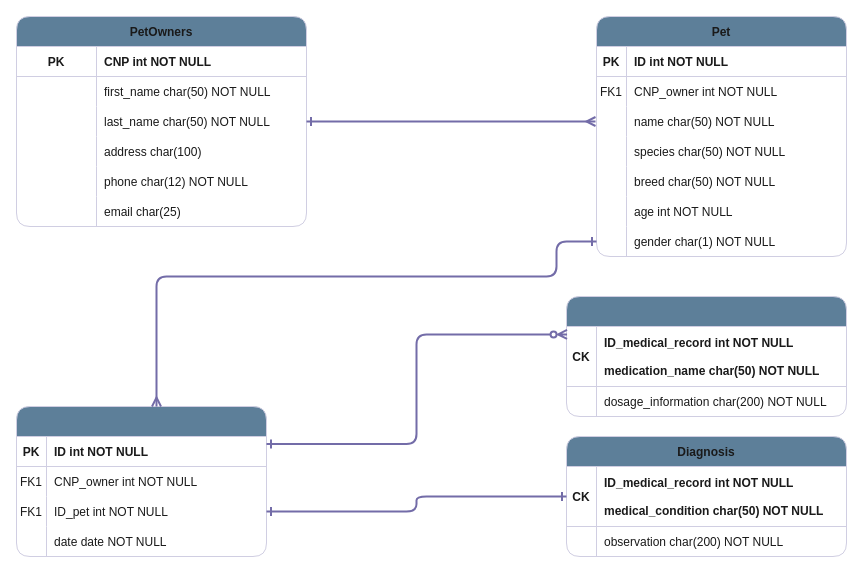
Some shapes in this 863 by 573 pixel diagram are drawn without their labels. Each missing label, with the box of its shape:
MedicalRecords: (16, 406, 266, 556)
PrescribedMedications: (566, 296, 846, 416)
